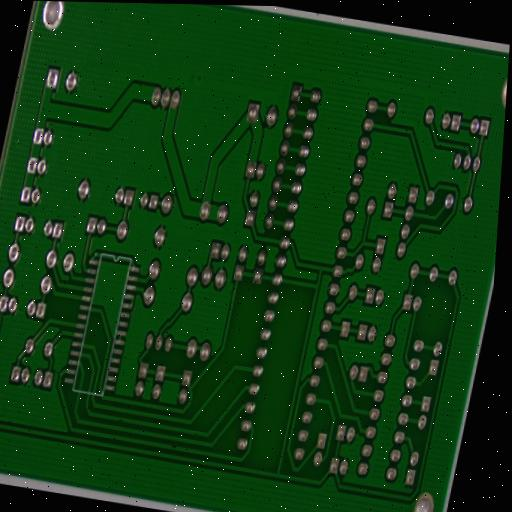mouse_bite: (168, 439, 178, 455), (82, 402, 92, 417), (115, 413, 125, 426)
